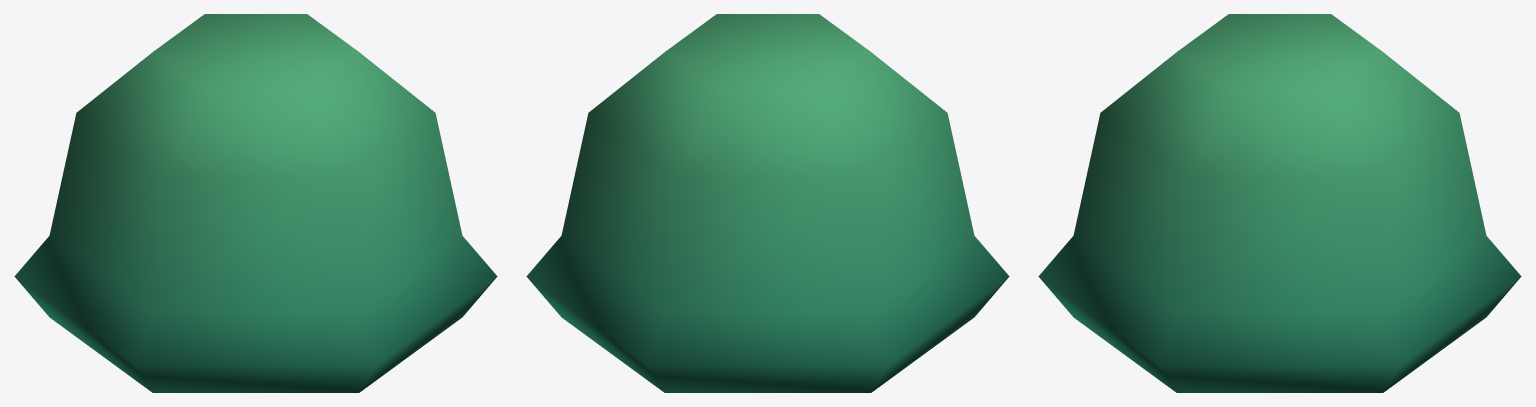
File: ice-cream-scoop-mint.glb
The picture shows the model from 3 angles, left to right: view 1: azimuth 30°, elevation 25°; view 2: azimuth 150°, elevation 25°; view 3: azimuth 270°, elevation 25°; orthographic projection.
Parts seen in each view (by area): view 1: ice-cream-scoop-mint; view 2: ice-cream-scoop-mint; view 3: ice-cream-scoop-mint.
Part boxes in pixels (left/top/right/bottom): ice-cream-scoop-mint: left=14, top=14, right=497, bottom=392; ice-cream-scoop-mint: left=526, top=14, right=1009, bottom=392; ice-cream-scoop-mint: left=1038, top=14, right=1521, bottom=392.
Bounding box in the file's own units: 0.2352 × 0.165 × 0.2716.
